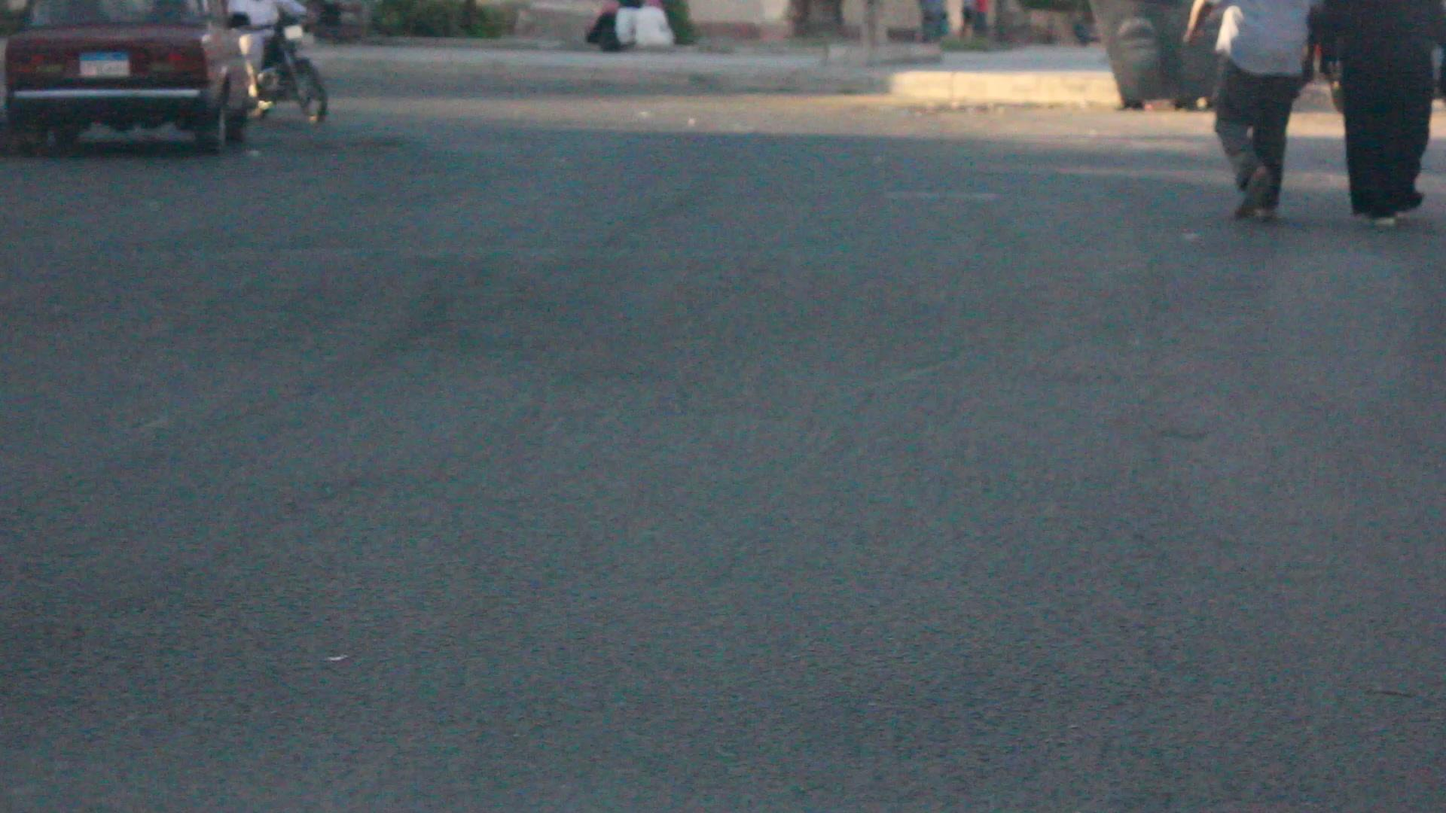Bump: (0, 231, 1446, 354)
